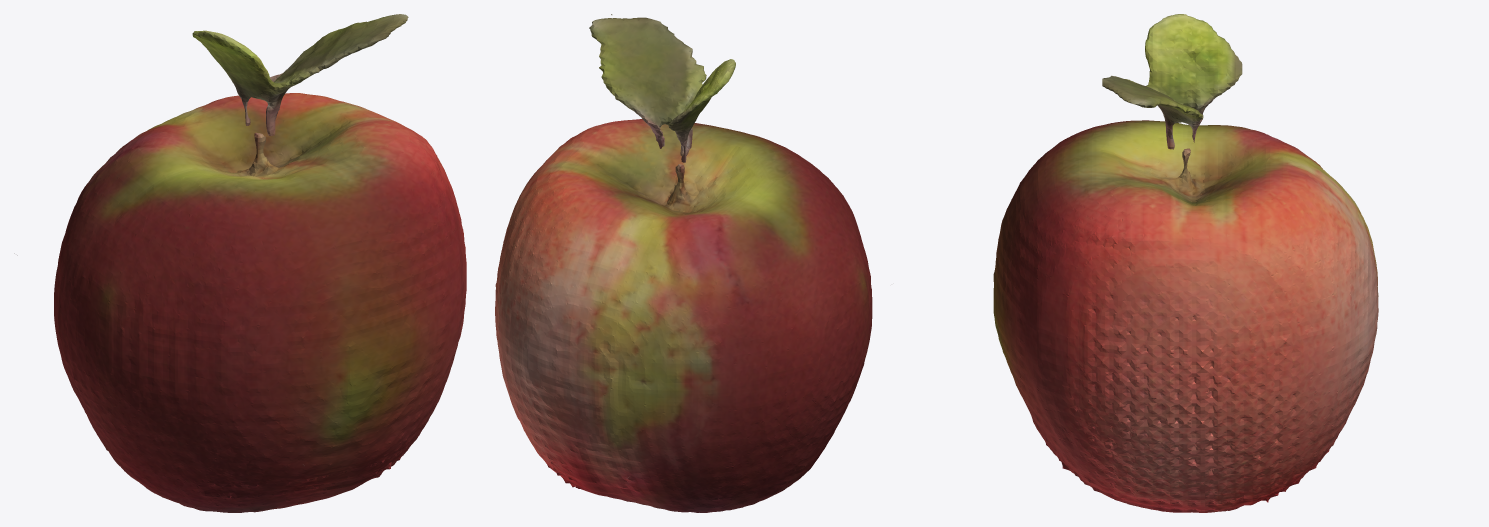
3 views of the same model, side by side, from view 1: azimuth 30°, elevation 25°; view 2: azimuth 150°, elevation 25°; view 3: azimuth 270°, elevation 25° (orthographic). The views are drawn at different scales.
Visible parts, largest first — view 1: world; view 2: world; view 3: world.
Part boxes in pixels (x1,y1,x2,y2): world: [14, 14, 466, 512]; world: [495, 14, 872, 512]; world: [993, 14, 1378, 512].
Size of the model in its own units: 1.47 by 1.87 by 2.08.
